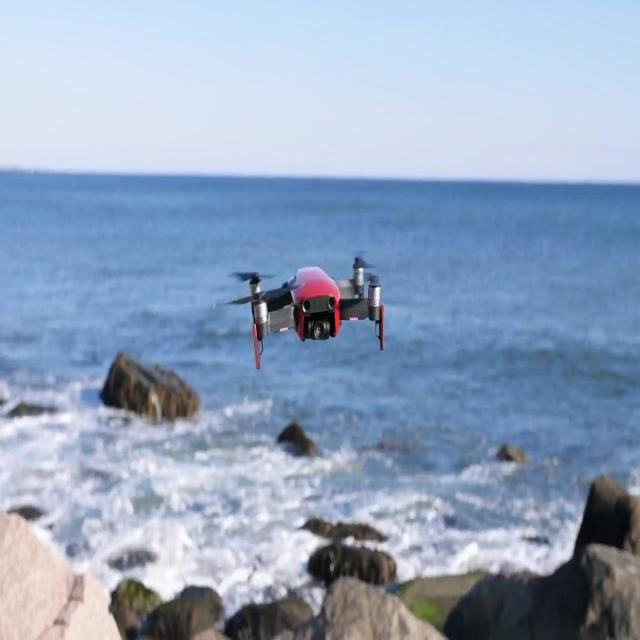UAV: (216, 252, 385, 370)
